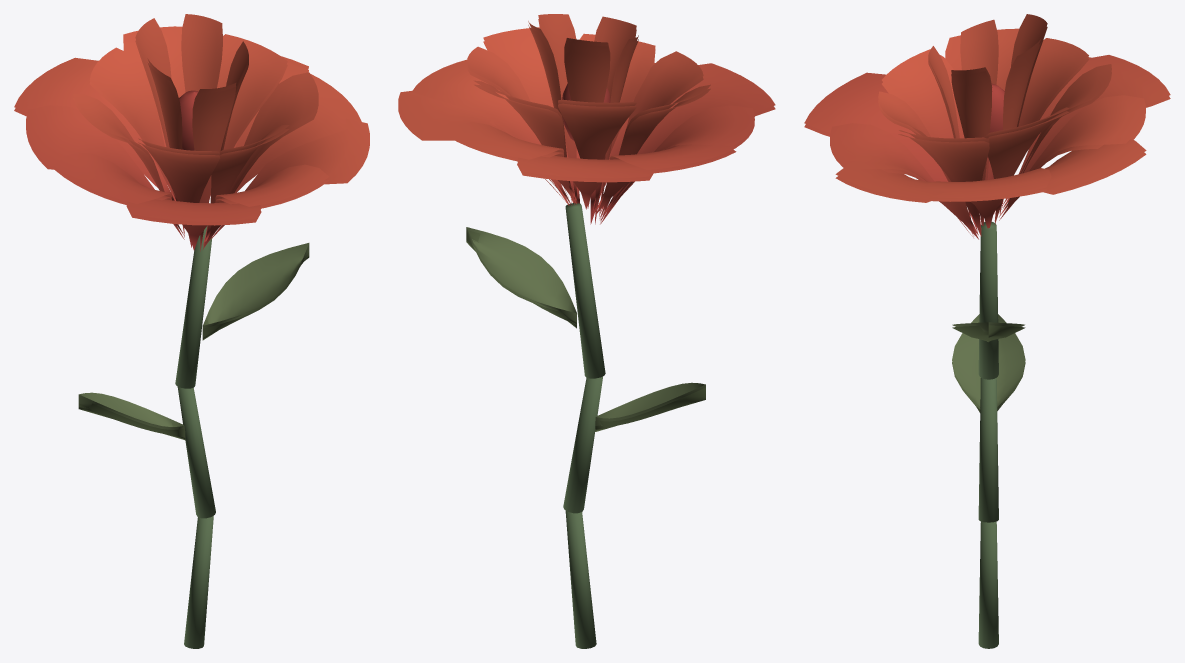
Rendered from Rose.glb.
3 views of the same model, side by side, from view 1: azimuth 30°, elevation 25°; view 2: azimuth 150°, elevation 25°; view 3: azimuth 270°, elevation 25° (orthographic). The views are drawn at different scales.
Parts seen in each view (by area): view 1: b612__Rose__flower; view 2: b612__Rose__flower; view 3: b612__Rose__flower.
Boxes of the visible parts, box(x1,y1,x2,y2) form: b612__Rose__flower: box(14, 14, 369, 648); b612__Rose__flower: box(398, 14, 775, 648); b612__Rose__flower: box(804, 14, 1170, 648).
Size of the model in its own units: 0.6052 by 1.2 by 0.6472.
